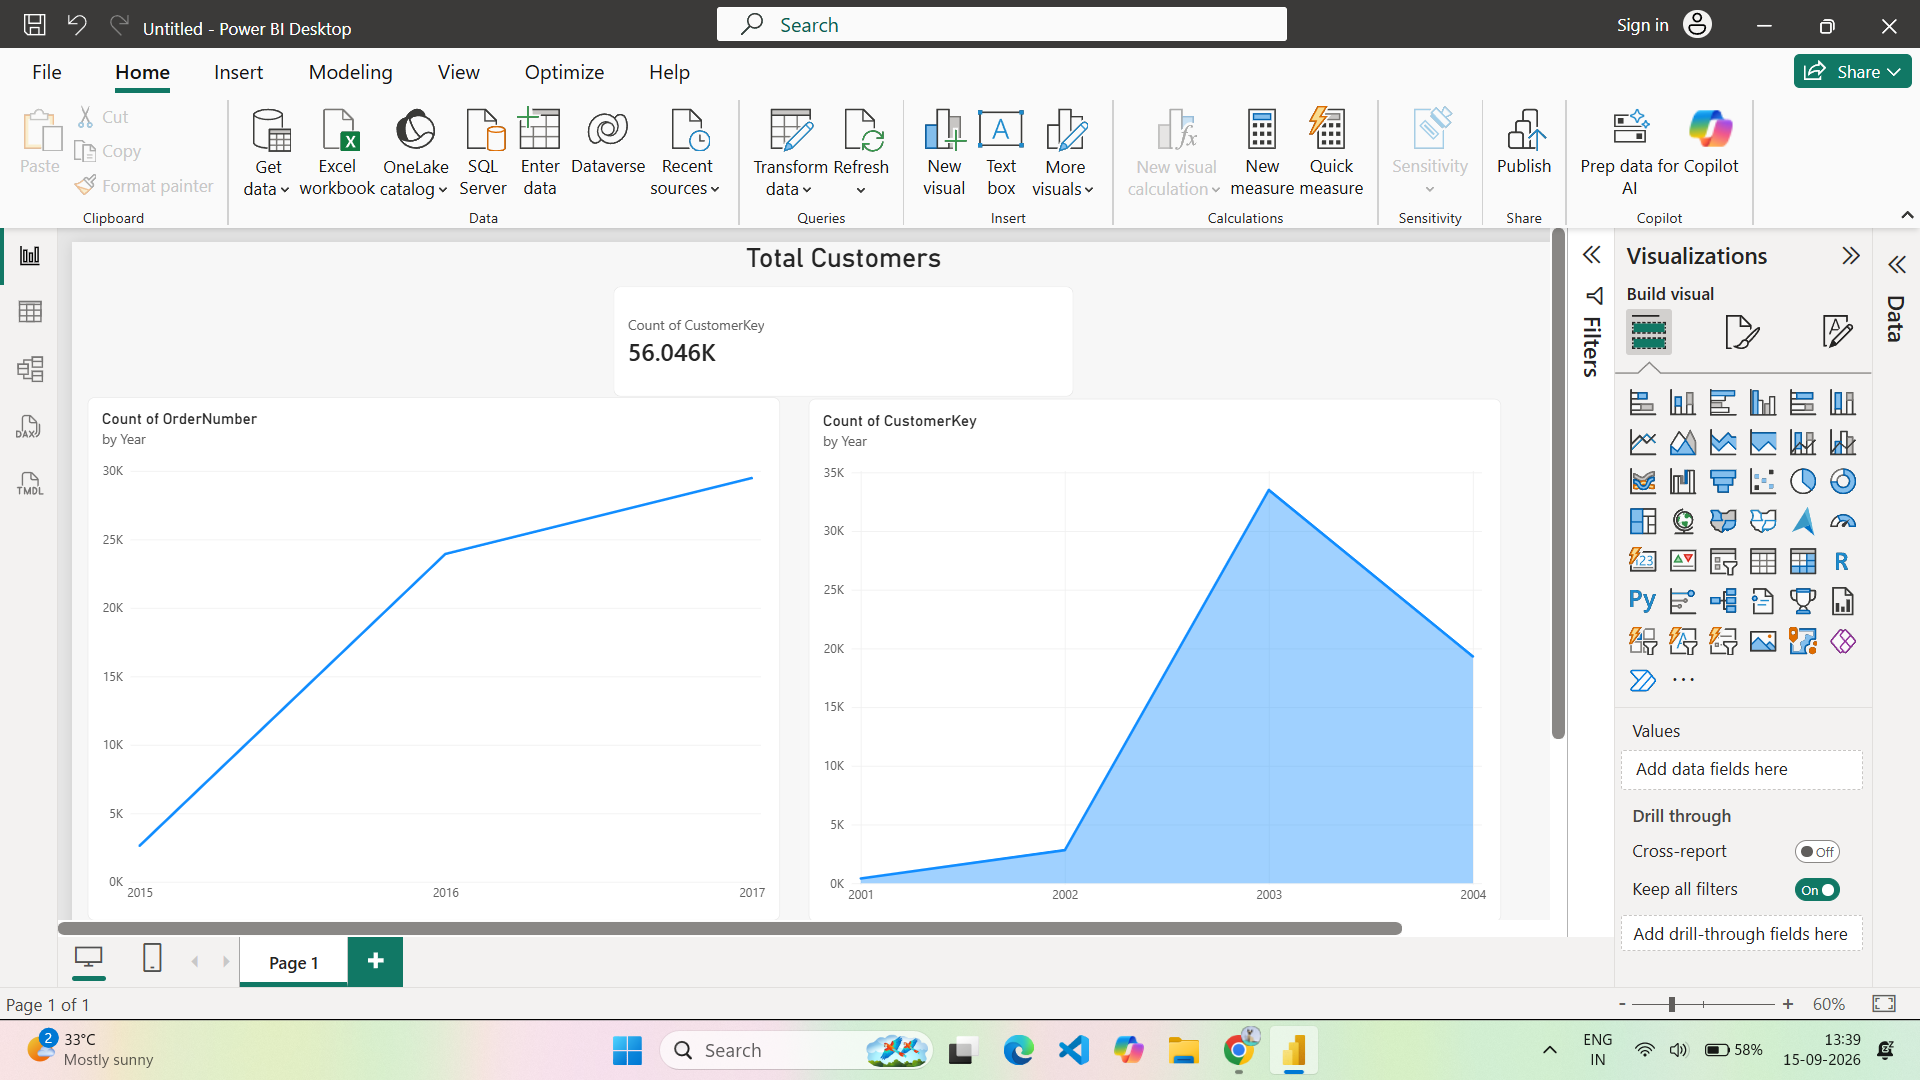

What the dashboard file says about the page in this screenshot:
{"tool":"powerbi","page":{"name":"Page 1","canvas":[1920,1080],"ordinal":0},"visuals":[{"type":"lineChart","fields":{"Category":["gold extsales.OrderDate.Variation.Date Hierarchy.Year","gold extsales.OrderDate.Variation.Date Hierarchy.Quarter","gold extsales.OrderDate.Variation.Date Hierarchy.Month","gold extsales.OrderDate.Variation.Date Hierarchy.Day"],"Y":["CountNonNull(gold extsales.OrderNumber)"]},"box":[18.3,181.7,810,611.7],"z":0},{"type":"cardVisual","title":"Total Customers","fields":{"Data":["CountNonNull(gold extsales.CustomerKey)"]},"box":[633.3,0,538.3,181.7],"z":1000},{"type":"stackedAreaChart","fields":{"Category":["gold extsales.StockDate.Variation.Date Hierarchy.Year","gold extsales.StockDate.Variation.Date Hierarchy.Quarter","gold extsales.StockDate.Variation.Date Hierarchy.Month","gold extsales.StockDate.Variation.Date Hierarchy.Day"],"Y":["CountNonNull(gold extsales.CustomerKey)"]},"box":[861.7,183.3,810,611.7],"z":1001}]}

Visuals, with their boxes on the page's 1920x1080 design canvas (x1, y1, x2, y2). These are canvas units, not pixel positions in the 1920x1080 screenshot, which may show the page scaled, cropped or inside an application window:
lineChart - gold extsales.OrderDate.Variation.Date Hierarchy.Year x gold extsales.OrderDate.Variation.Date Hierarchy.Quarter: {"left": 18, "top": 182, "right": 828, "bottom": 793}
"Total Customers" cardVisual: {"left": 633, "top": 0, "right": 1172, "bottom": 182}
stackedAreaChart - gold extsales.StockDate.Variation.Date Hierarchy.Year x gold extsales.StockDate.Variation.Date Hierarchy.Quarter: {"left": 862, "top": 183, "right": 1672, "bottom": 795}
